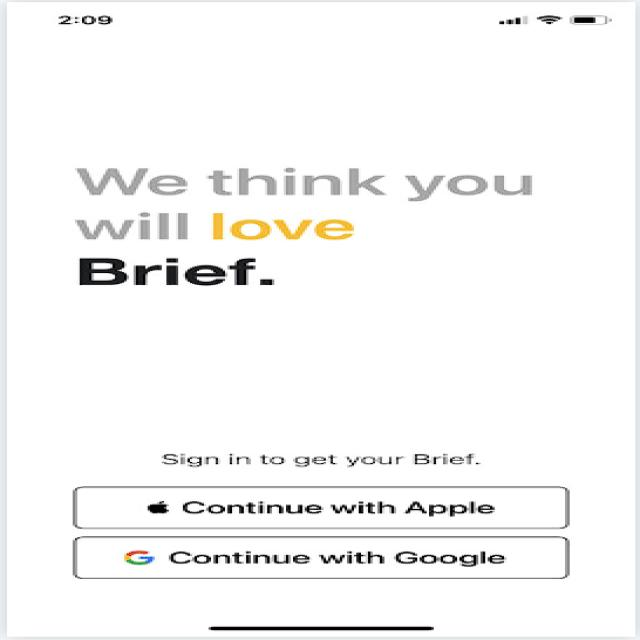button: (48, 530, 580, 586), (53, 480, 580, 532)
spacer: (36, 313, 600, 441)
text: (36, 146, 593, 304), (144, 448, 504, 468)
